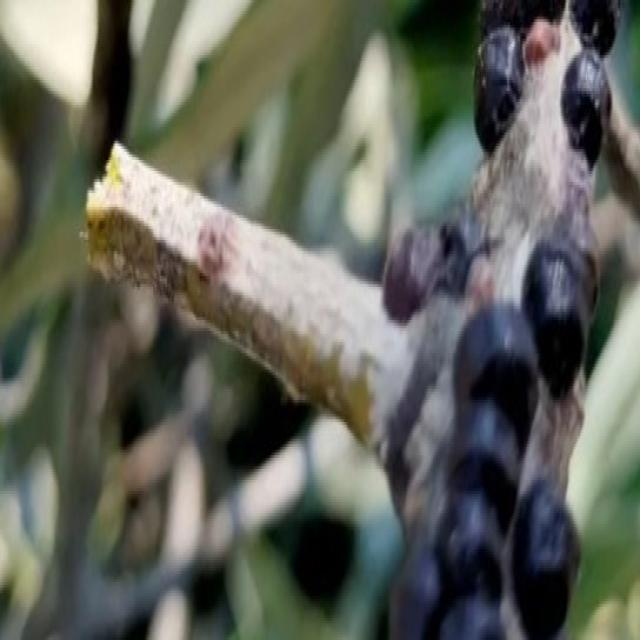Black Scale: (391, 306, 538, 637), (522, 221, 596, 394), (382, 201, 488, 320), (513, 497, 580, 637), (561, 50, 611, 171), (474, 28, 521, 152)
